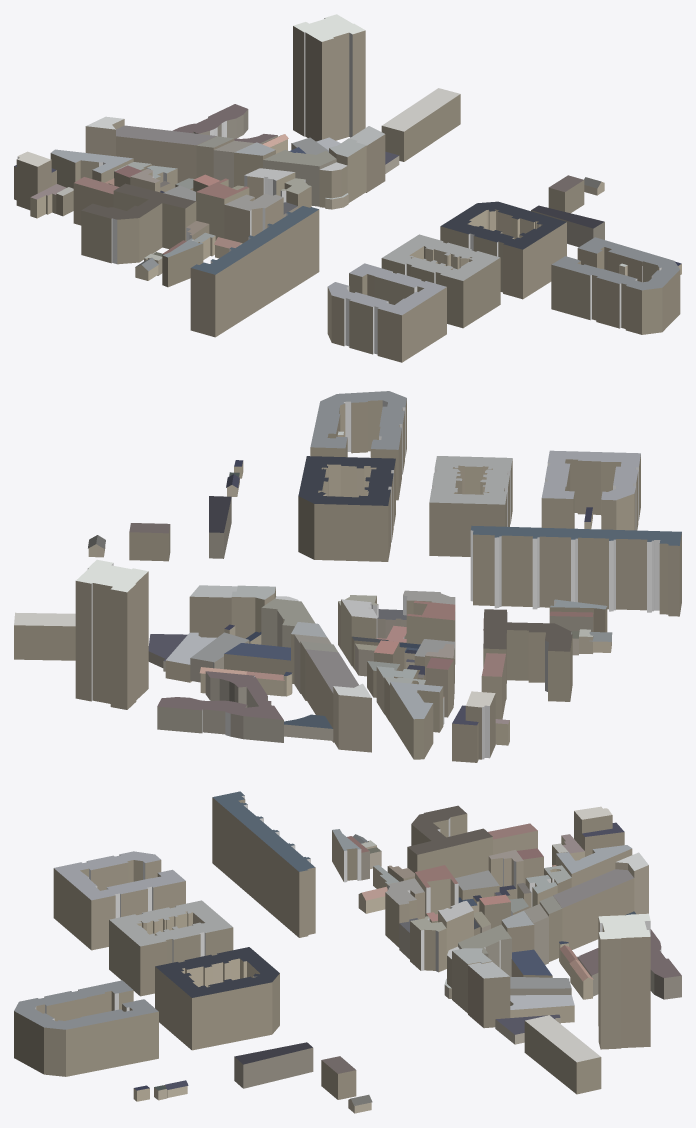
The picture shows the model from 3 angles, top to bottom: view 1: azimuth 30°, elevation 25°; view 2: azimuth 150°, elevation 25°; view 3: azimuth 270°, elevation 25°; orthographic projection. The views are drawn at different scales.
Visible parts, largest first — view 1: tuile; view 2: tuile; view 3: tuile.
Boxes of the visible parts, box(x1,y1,x2,y2) form: tuile: box(14, 14, 681, 362); tuile: box(14, 391, 681, 762); tuile: box(14, 791, 681, 1113).
Bounding box in the file's own units: 256 × 55.44 × 295.
